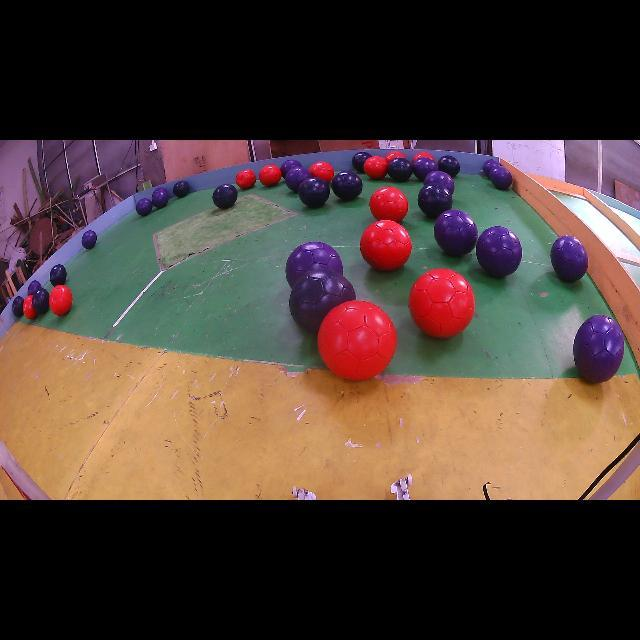B: (289, 269, 356, 334), (418, 184, 452, 219), (298, 178, 330, 208), (331, 171, 362, 200), (212, 184, 238, 209), (388, 158, 412, 181), (438, 155, 460, 178), (32, 289, 50, 314), (351, 151, 371, 172), (50, 264, 66, 286), (172, 180, 190, 198), (12, 296, 24, 318)
P: (574, 315, 624, 382), (285, 241, 342, 286), (476, 226, 522, 278), (434, 210, 478, 256), (550, 235, 588, 282), (424, 170, 455, 195), (285, 166, 311, 192), (412, 158, 438, 181), (489, 166, 512, 190), (280, 160, 301, 179), (152, 188, 169, 209), (482, 160, 501, 178), (81, 230, 98, 249), (136, 198, 152, 216), (28, 280, 41, 294), (154, 188, 167, 192)
R: (318, 300, 396, 380), (409, 269, 475, 338), (360, 220, 411, 270), (370, 186, 409, 222), (49, 285, 72, 315), (364, 156, 388, 179), (310, 161, 334, 182), (259, 165, 281, 186), (235, 169, 256, 189), (22, 295, 38, 319), (385, 151, 405, 162), (412, 151, 434, 161)
